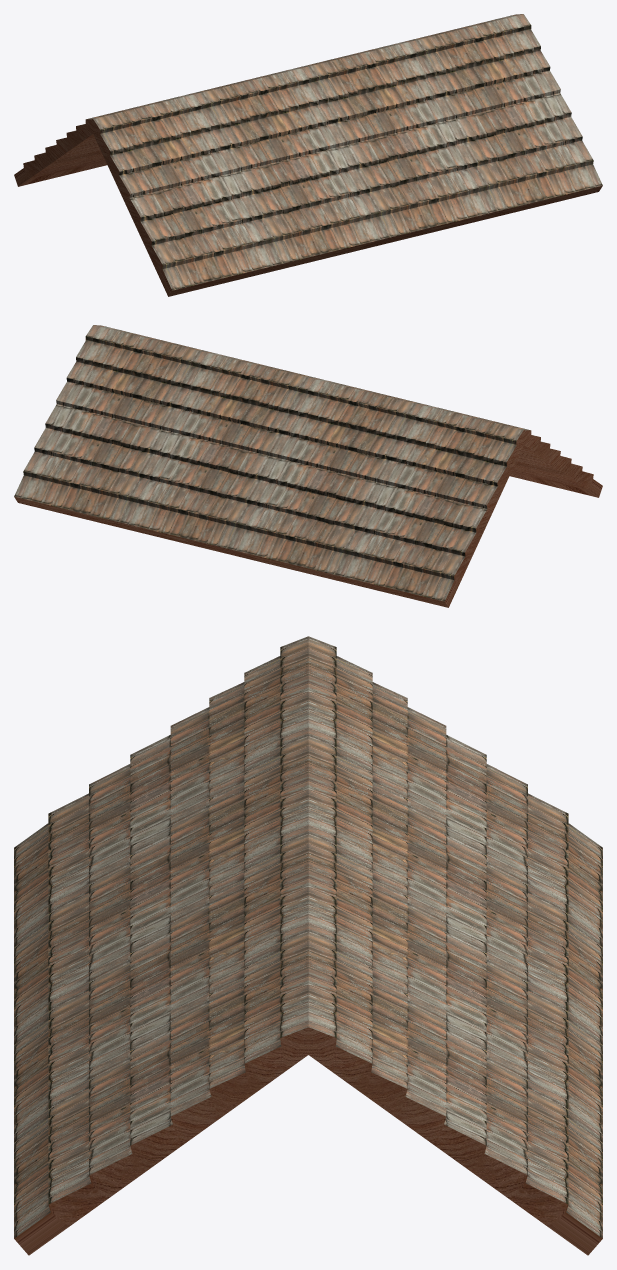
File: R1_Genteng.fbx
The picture shows the model from 3 angles, top to bottom: view 1: azimuth 30°, elevation 25°; view 2: azimuth 150°, elevation 25°; view 3: azimuth 270°, elevation 25°; orthographic projection. The views are drawn at different scales.
Parts seen in each view (by area): view 1: R3 Atao; view 2: R3 Atao; view 3: R3 Atao.
Boxes of the visible parts, bbox=[...] form: R3 Atao: bbox=[14, 14, 602, 296]; R3 Atao: bbox=[14, 325, 602, 607]; R3 Atao: bbox=[14, 636, 602, 1255].
Size of the model in its own units: 28.3 by 7.71 by 18.02.
Materials: 2 (2 with a texture image).
